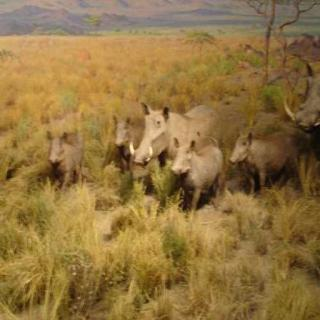Pig: (120, 98, 259, 157), (228, 121, 302, 192), (164, 126, 218, 198), (42, 110, 90, 188), (292, 60, 320, 152), (104, 109, 135, 153)
